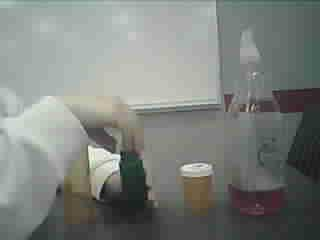Bottle A: (62, 145, 97, 225)
Bottle B: (176, 157, 217, 218)
Bottle C: (118, 141, 155, 216)
hazard: (223, 24, 295, 222)
